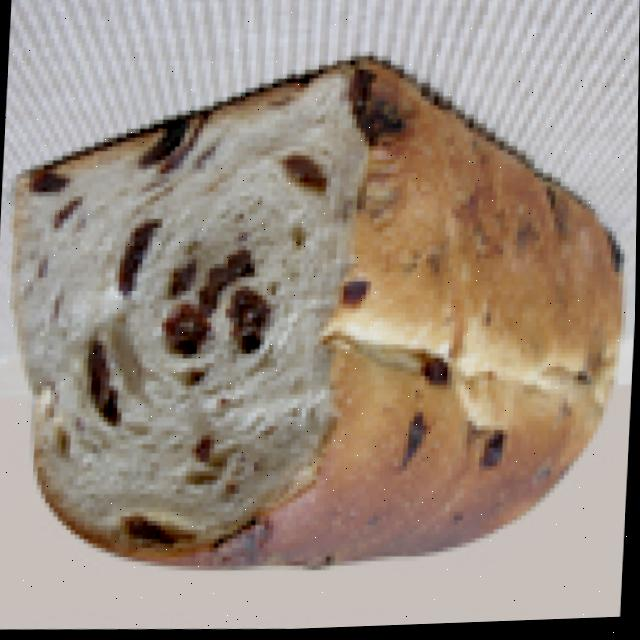面包点心: (0, 47, 625, 614)
